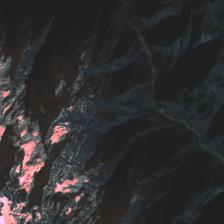landslides: (214, 190, 224, 201)
